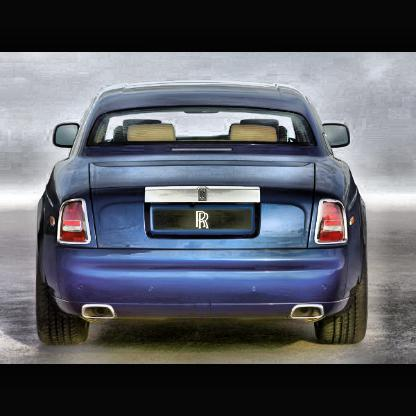Rolls-Royce Phantom Sedan 2012: (37, 83, 371, 347)
